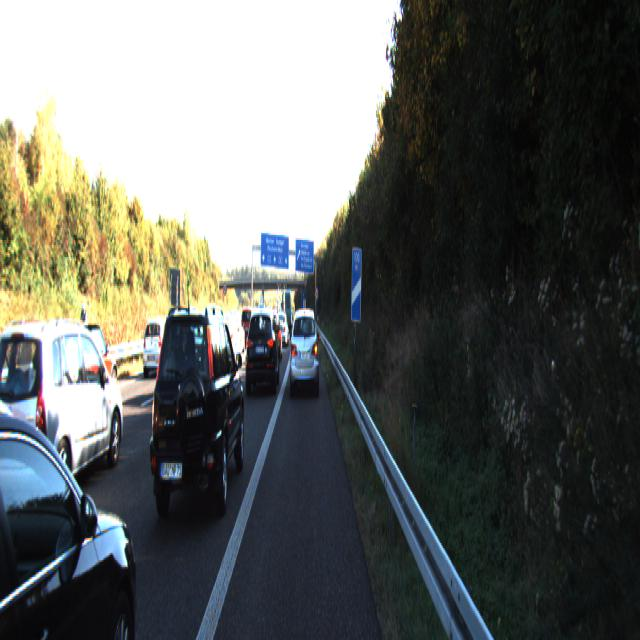Car: (0, 352, 148, 638), (0, 314, 126, 523), (144, 304, 246, 532), (52, 319, 118, 418), (160, 304, 210, 401), (245, 304, 280, 396), (289, 304, 320, 396), (142, 313, 180, 376), (262, 310, 282, 362), (274, 310, 288, 345)
